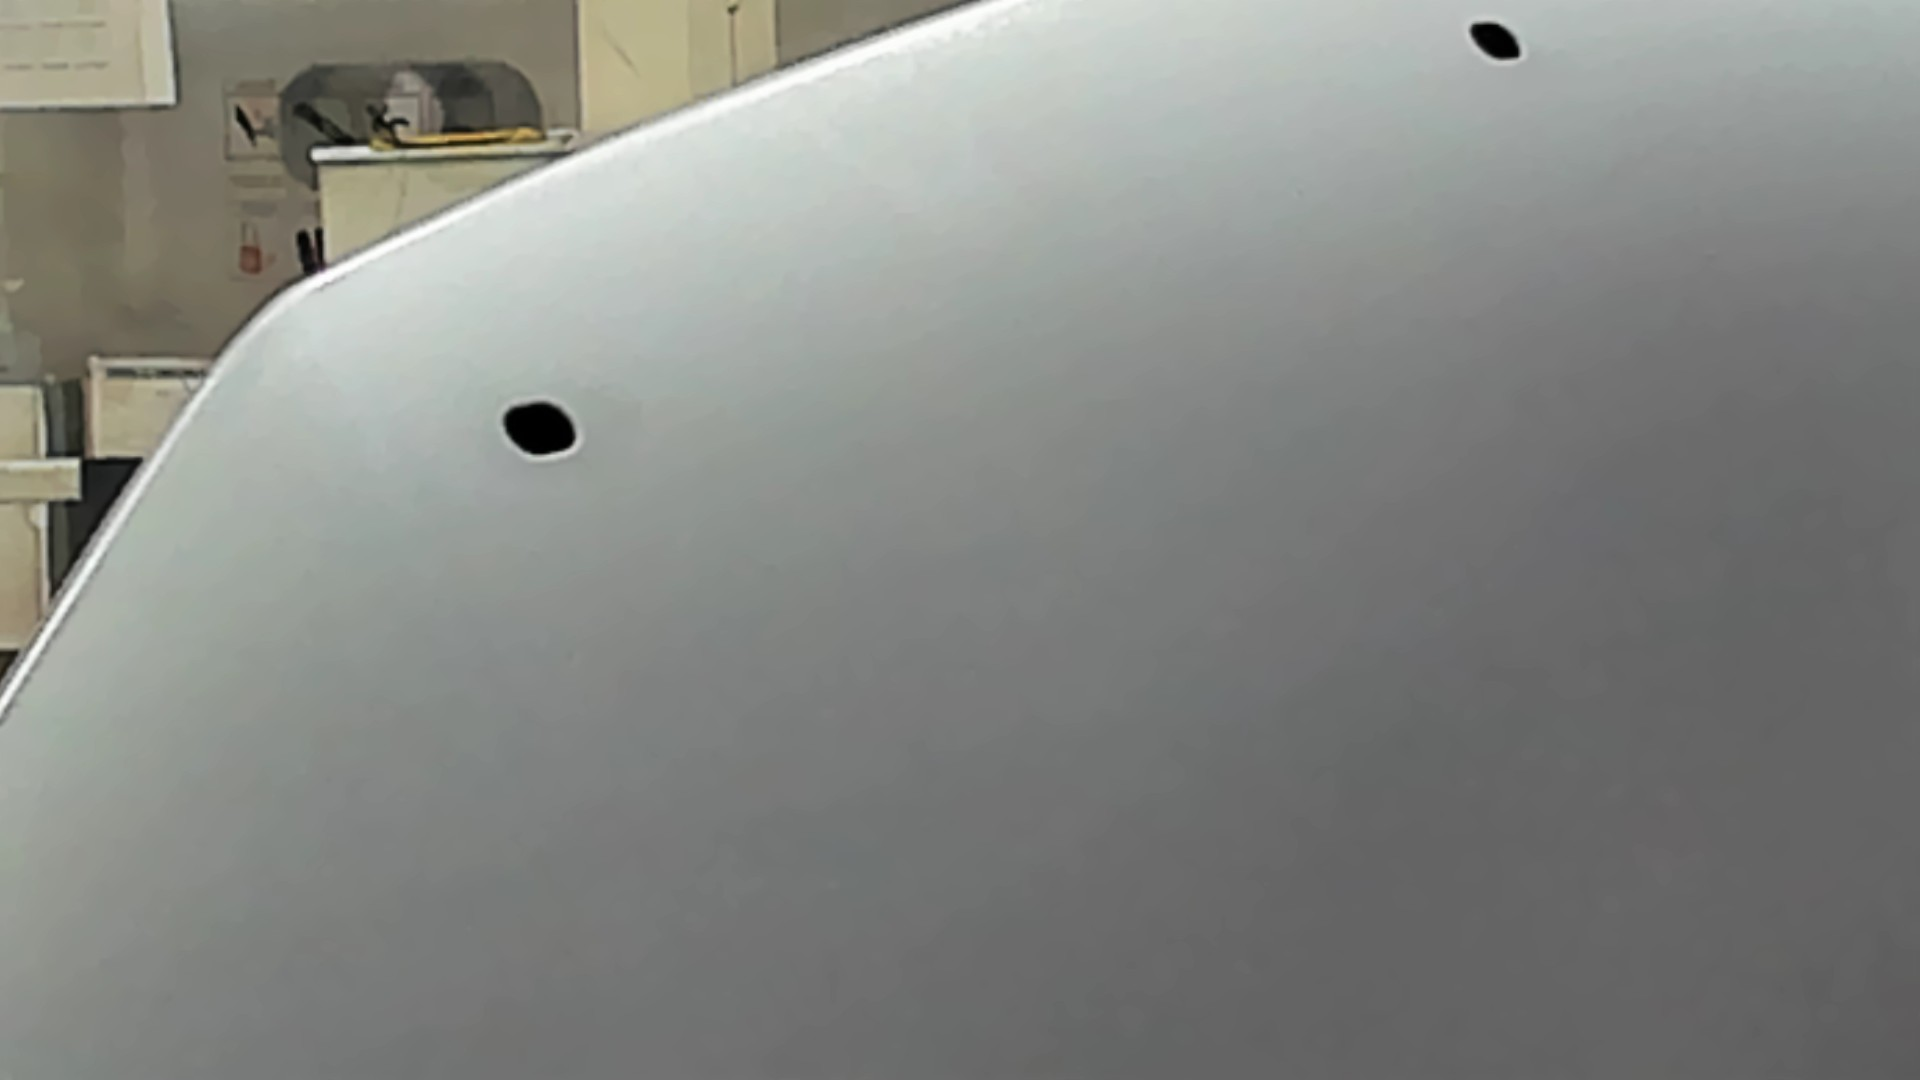Agujero: (498, 400, 582, 460), (1466, 20, 1524, 65)
